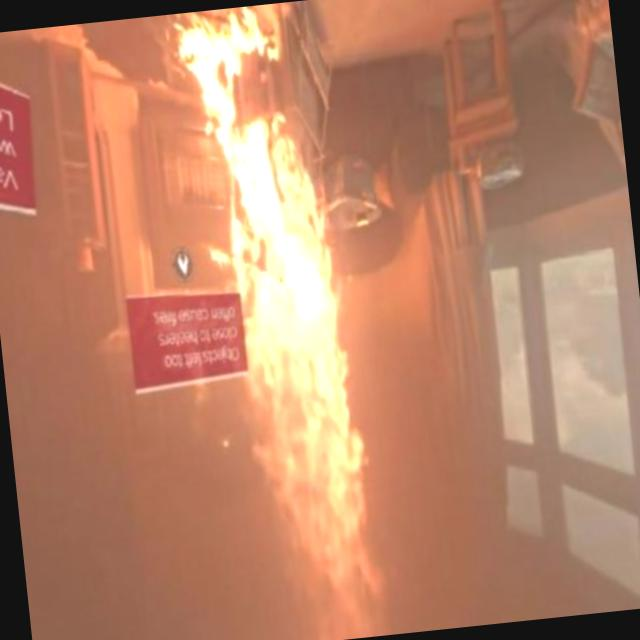fire: (181, 105, 423, 640)
